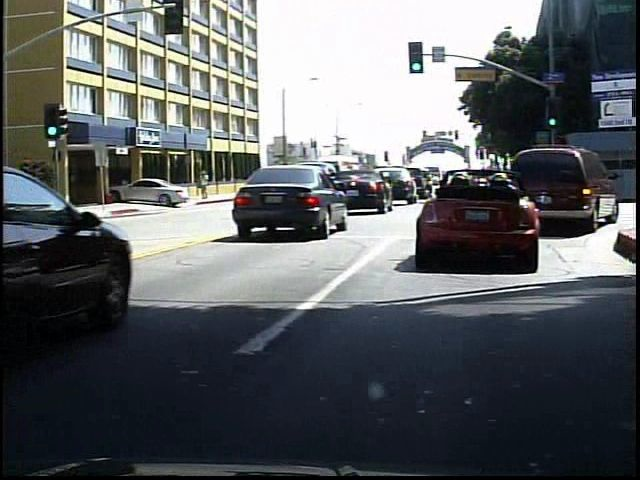person: (193, 168, 208, 201)
